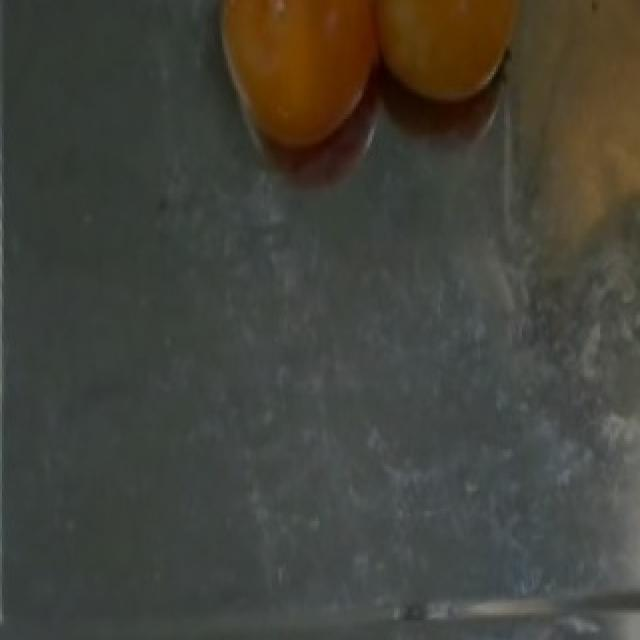Fruit: (196, 2, 416, 178)
